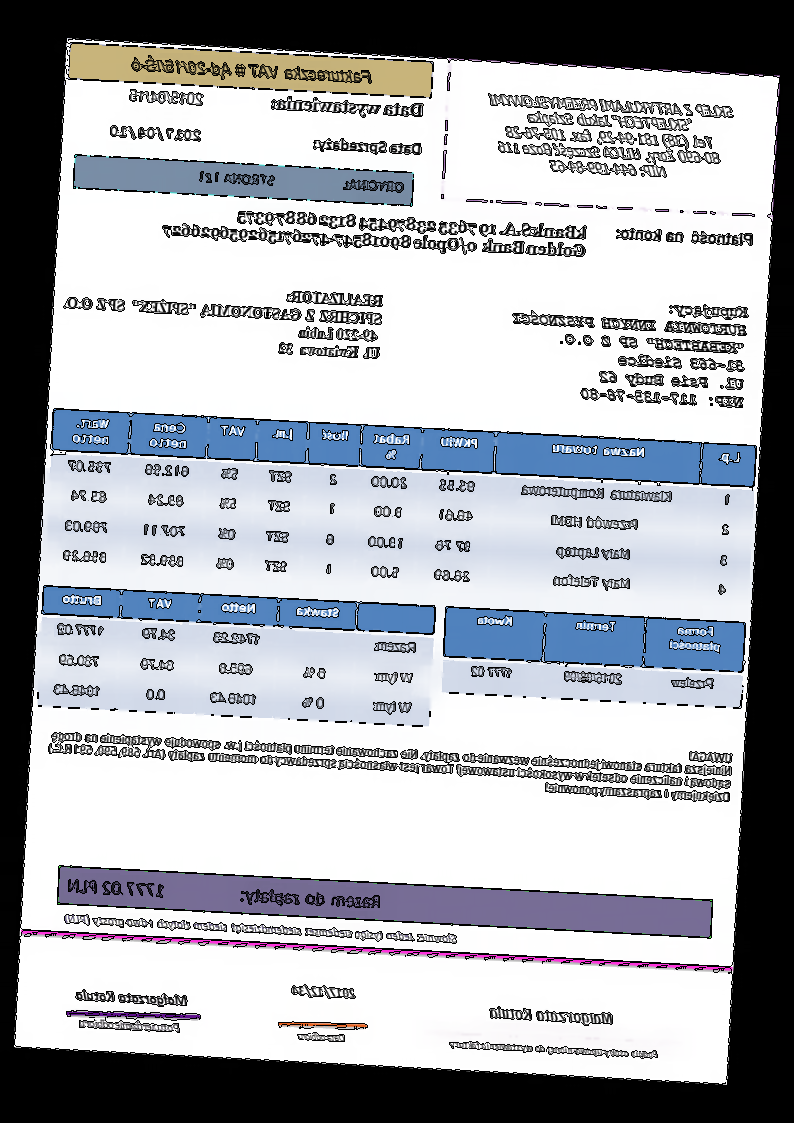Table: (43, 405, 759, 612), (36, 583, 440, 730), (440, 605, 747, 709)
TextBox: (44, 712, 736, 807), (506, 289, 754, 411), (58, 274, 388, 363), (159, 199, 591, 262), (481, 84, 739, 188), (58, 909, 461, 947), (66, 871, 386, 913), (125, 51, 377, 87), (196, 166, 407, 198), (445, 1036, 664, 1063), (266, 89, 427, 121), (611, 223, 760, 252), (485, 998, 617, 1029), (307, 132, 427, 161), (70, 984, 194, 1010), (105, 119, 205, 146), (127, 82, 209, 111), (75, 1016, 186, 1037), (289, 981, 360, 1002), (294, 1028, 350, 1048)
